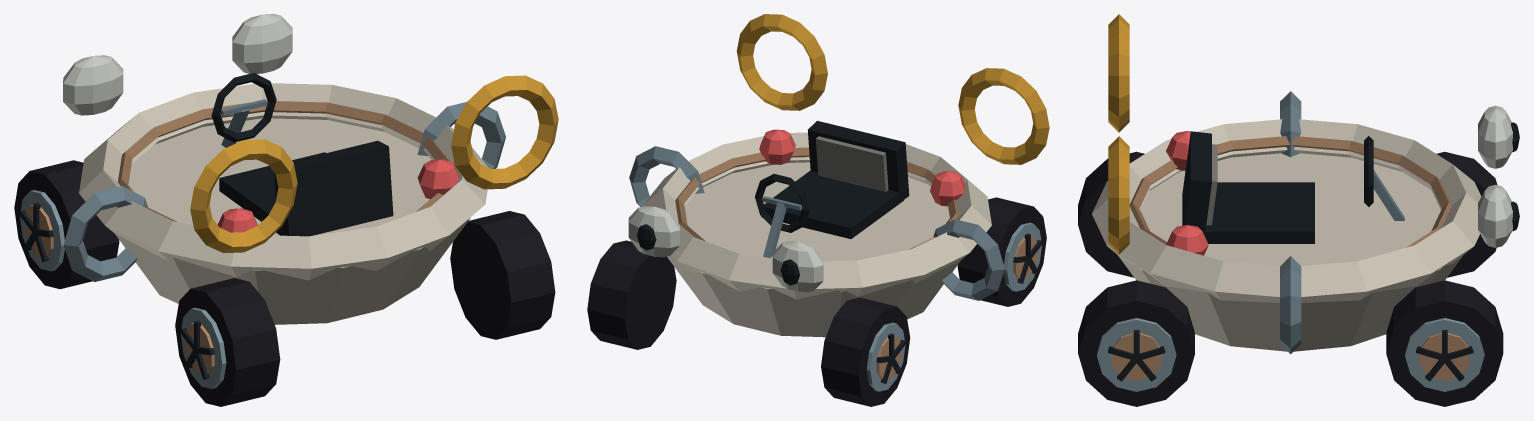
The model's file is kart.glb.
3 views of the same model, side by side, from view 1: azimuth 30°, elevation 25°; view 2: azimuth 150°, elevation 25°; view 3: azimuth 270°, elevation 25° (orthographic). The views are drawn at different scales.
Visible parts, largest first — view 1: identity-cauldron-cauldron-open-pot-and-handles, identity-cauldron-driver-cockpit, identity-cauldron-motif-ring, wheel-rear-left, wheel-rear-right, wheel-front-left, identity-cauldron-motif-eyes; view 2: identity-cauldron-cauldron-open-pot-and-handles, identity-cauldron-driver-cockpit, identity-cauldron-motif-ring, wheel-front-left, wheel-front-right, wheel-rear-left, identity-cauldron-motif-eyes; view 3: identity-cauldron-cauldron-open-pot-and-handles, wheel-front-right, wheel-rear-right, identity-cauldron-driver-cockpit, identity-cauldron-motif-ring, identity-cauldron-motif-eyes, wheel-rear-left, wheel-front-left.
Part boxes in pixels (x1=…): identity-cauldron-cauldron-open-pot-and-handles: x1=63, y1=83, x2=505, y2=324; identity-cauldron-driver-cockpit: x1=211, y1=73, x2=393, y2=236; identity-cauldron-motif-ring: x1=190, y1=75, x2=558, y2=253; wheel-rear-left: x1=175, y1=278, x2=280, y2=406; wheel-rear-right: x1=450, y1=211, x2=555, y2=339; wheel-front-left: x1=14, y1=160, x2=119, y2=288; identity-cauldron-motif-eyes: x1=63, y1=14, x2=292, y2=115; identity-cauldron-cauldron-open-pot-and-handles: x1=629, y1=129, x2=1004, y2=337; identity-cauldron-driver-cockpit: x1=755, y1=120, x2=909, y2=258; identity-cauldron-motif-ring: x1=736, y1=14, x2=1049, y2=164; wheel-front-left: x1=821, y1=297, x2=910, y2=406; wheel-front-right: x1=587, y1=240, x2=676, y2=349; wheel-rear-left: x1=957, y1=197, x2=1046, y2=306; identity-cauldron-motif-eyes: x1=628, y1=206, x2=823, y2=292; identity-cauldron-cauldron-open-pot-and-handles: x1=1092, y1=91, x2=1481, y2=354; wheel-front-right: x1=1386, y1=280, x2=1503, y2=406; wheel-rear-right: x1=1078, y1=280, x2=1194, y2=406; identity-cauldron-driver-cockpit: x1=1182, y1=131, x2=1404, y2=243; identity-cauldron-motif-ring: x1=1108, y1=14, x2=1129, y2=254; identity-cauldron-motif-eyes: x1=1478, y1=105, x2=1519, y2=247; wheel-rear-left: x1=1078, y1=151, x2=1144, y2=277; wheel-front-left: x1=1436, y1=151, x2=1497, y2=277.
Size of the model in its own units: 2.51 by 1.42 by 2.26.
